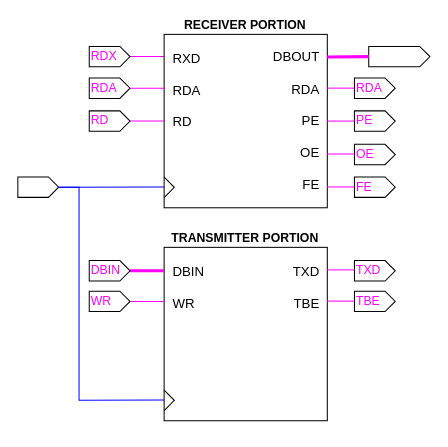
The diagram is 448 pixels wide and 447 high, and some of its shapes have lost their labels. The shapes that lost their labels are listed below. From the top down, each one's centre as x and y in pixels, then its label:
point 399,56: DBOUT
point 38,186: CLK
